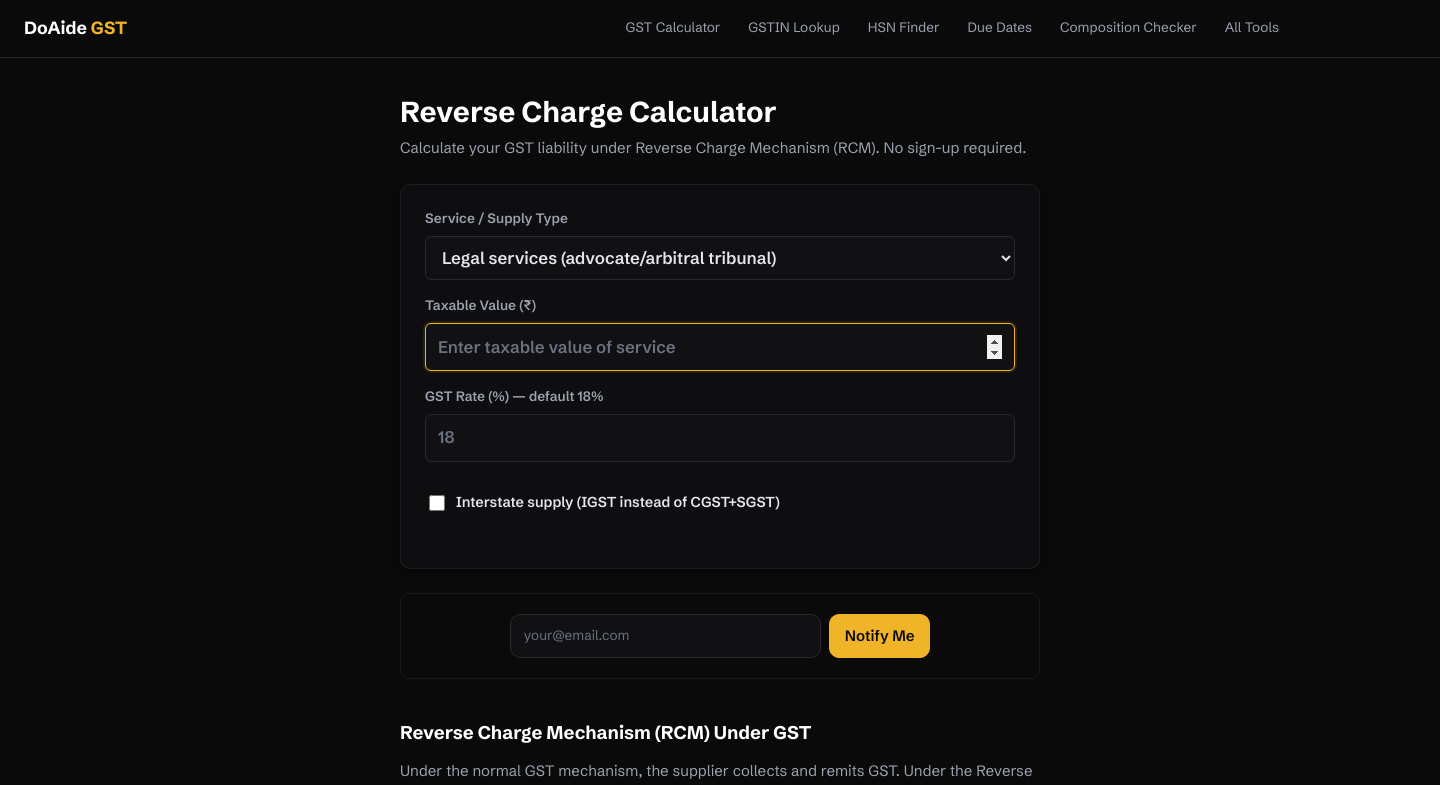
Test: ReverseChargePage › shows IGST for interstate supply
The width and height of the screenshot is (1440, 785).
Type "100000" into the number field with placeholder "Enter taxable value of service" at (720, 347), box 425,323 -> 1015,371
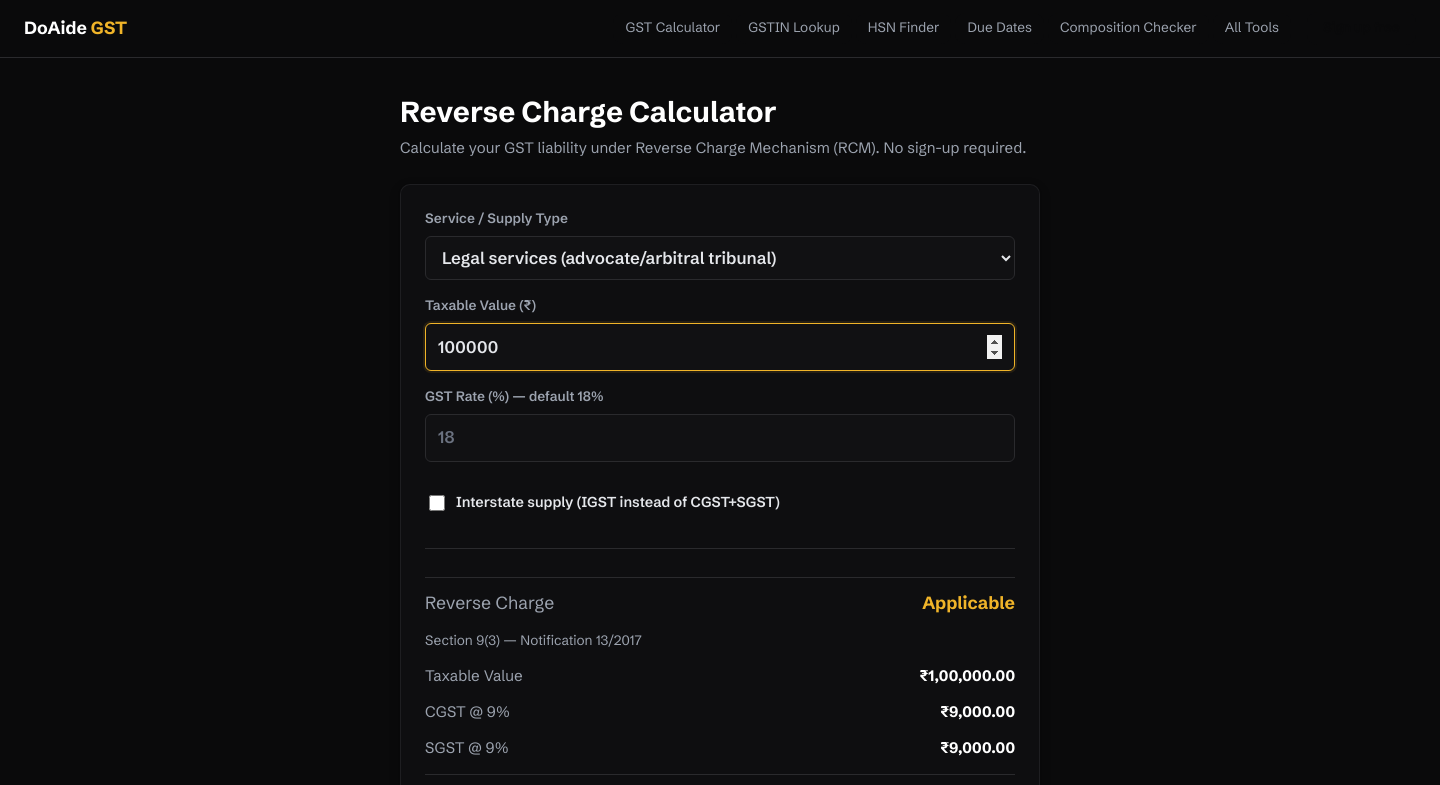
Click the checkbox labelled "Interstate supply (IGST instead of CGST+SGST)" at (437, 503), box 429,481 -> 445,525
(page scrolled)
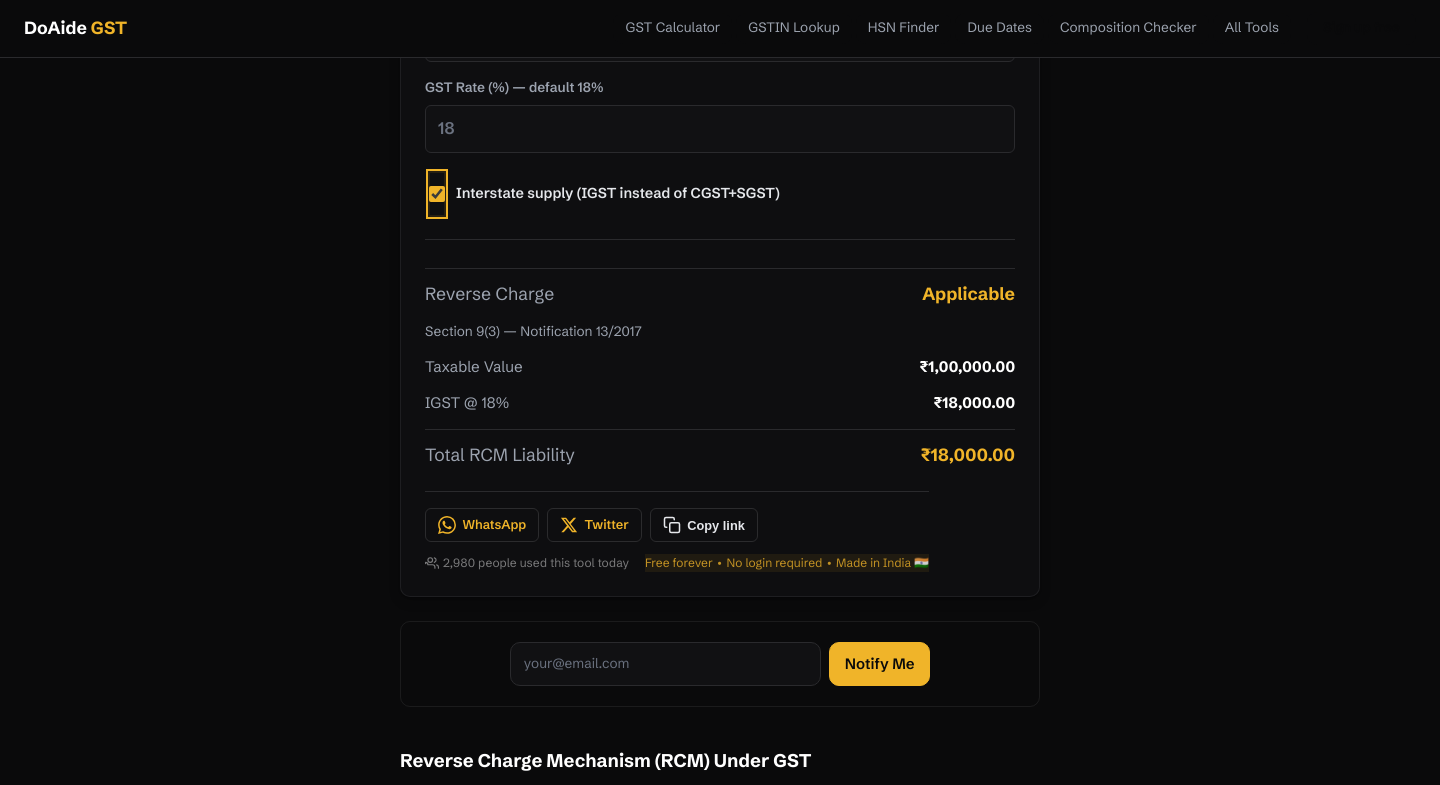
Expected: the element with class "calc-result" shows "IGST", 425,393 -> 481,412
